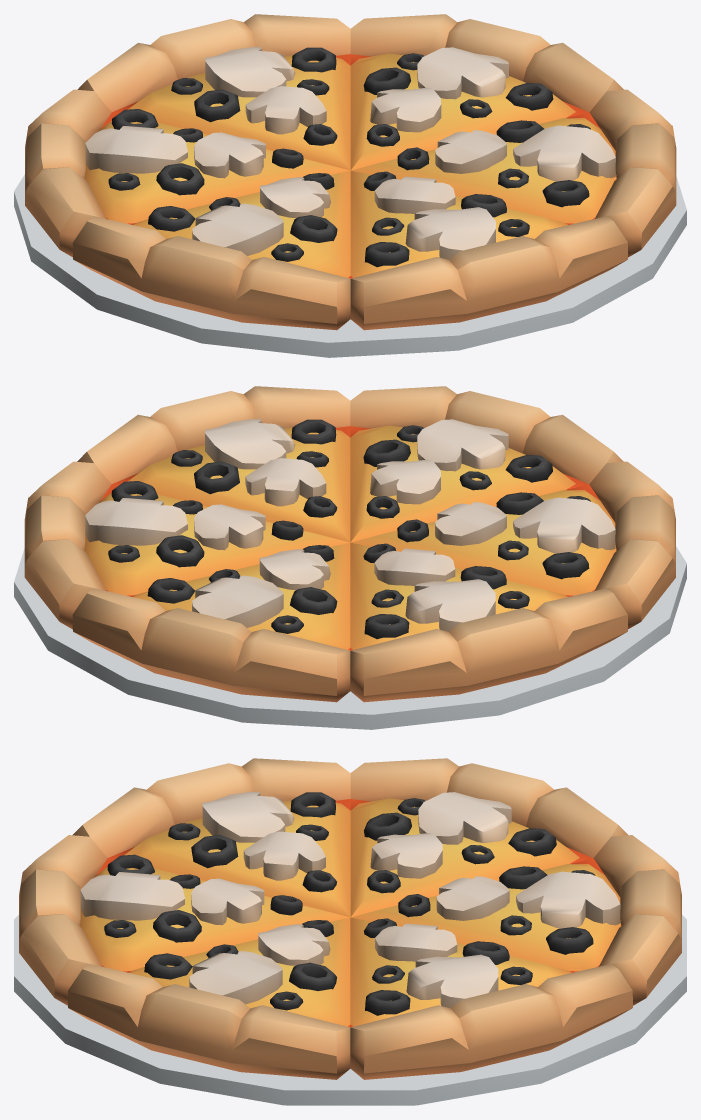
Rendered from food_pizza_mushroom_plated.obj.
3 views of the same model, one above another, from view 1: azimuth 30°, elevation 25°; view 2: azimuth 150°, elevation 25°; view 3: azimuth 270°, elevation 25° (orthographic).
Parts seen in each view (by area): view 1: food_pizza_mushroom_plated_Cylinder.220; view 2: food_pizza_mushroom_plated_Cylinder.220; view 3: food_pizza_mushroom_plated_Cylinder.220.
Boxes of the visible parts, box(x1,y1,x2,y2) form: food_pizza_mushroom_plated_Cylinder.220: box(14, 14, 686, 357); food_pizza_mushroom_plated_Cylinder.220: box(14, 386, 686, 729); food_pizza_mushroom_plated_Cylinder.220: box(14, 758, 686, 1105).
Bounding box in the file's own units: 2 × 0.3 × 2.
Materials: 1 (1 with a texture image).
